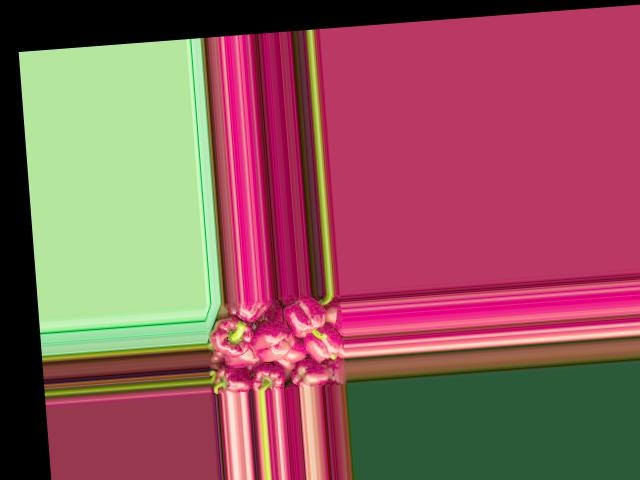bell_pepper: (211, 365, 250, 394)
